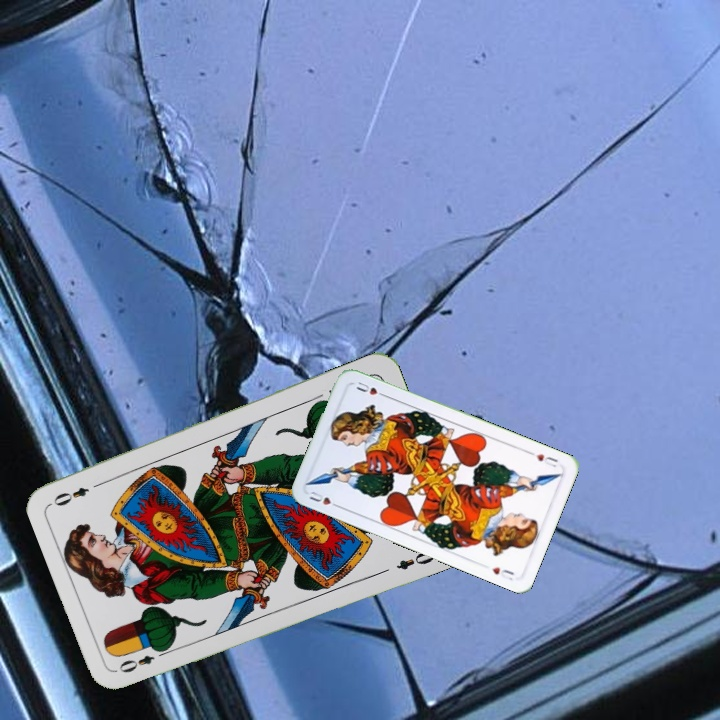EO: (114, 644, 171, 676)
HU: (305, 486, 343, 511), (525, 447, 560, 470)
